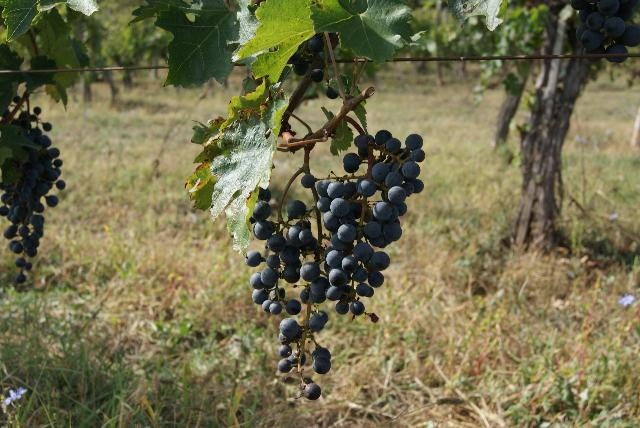grapes: (316, 129, 425, 318), (245, 190, 331, 400)
